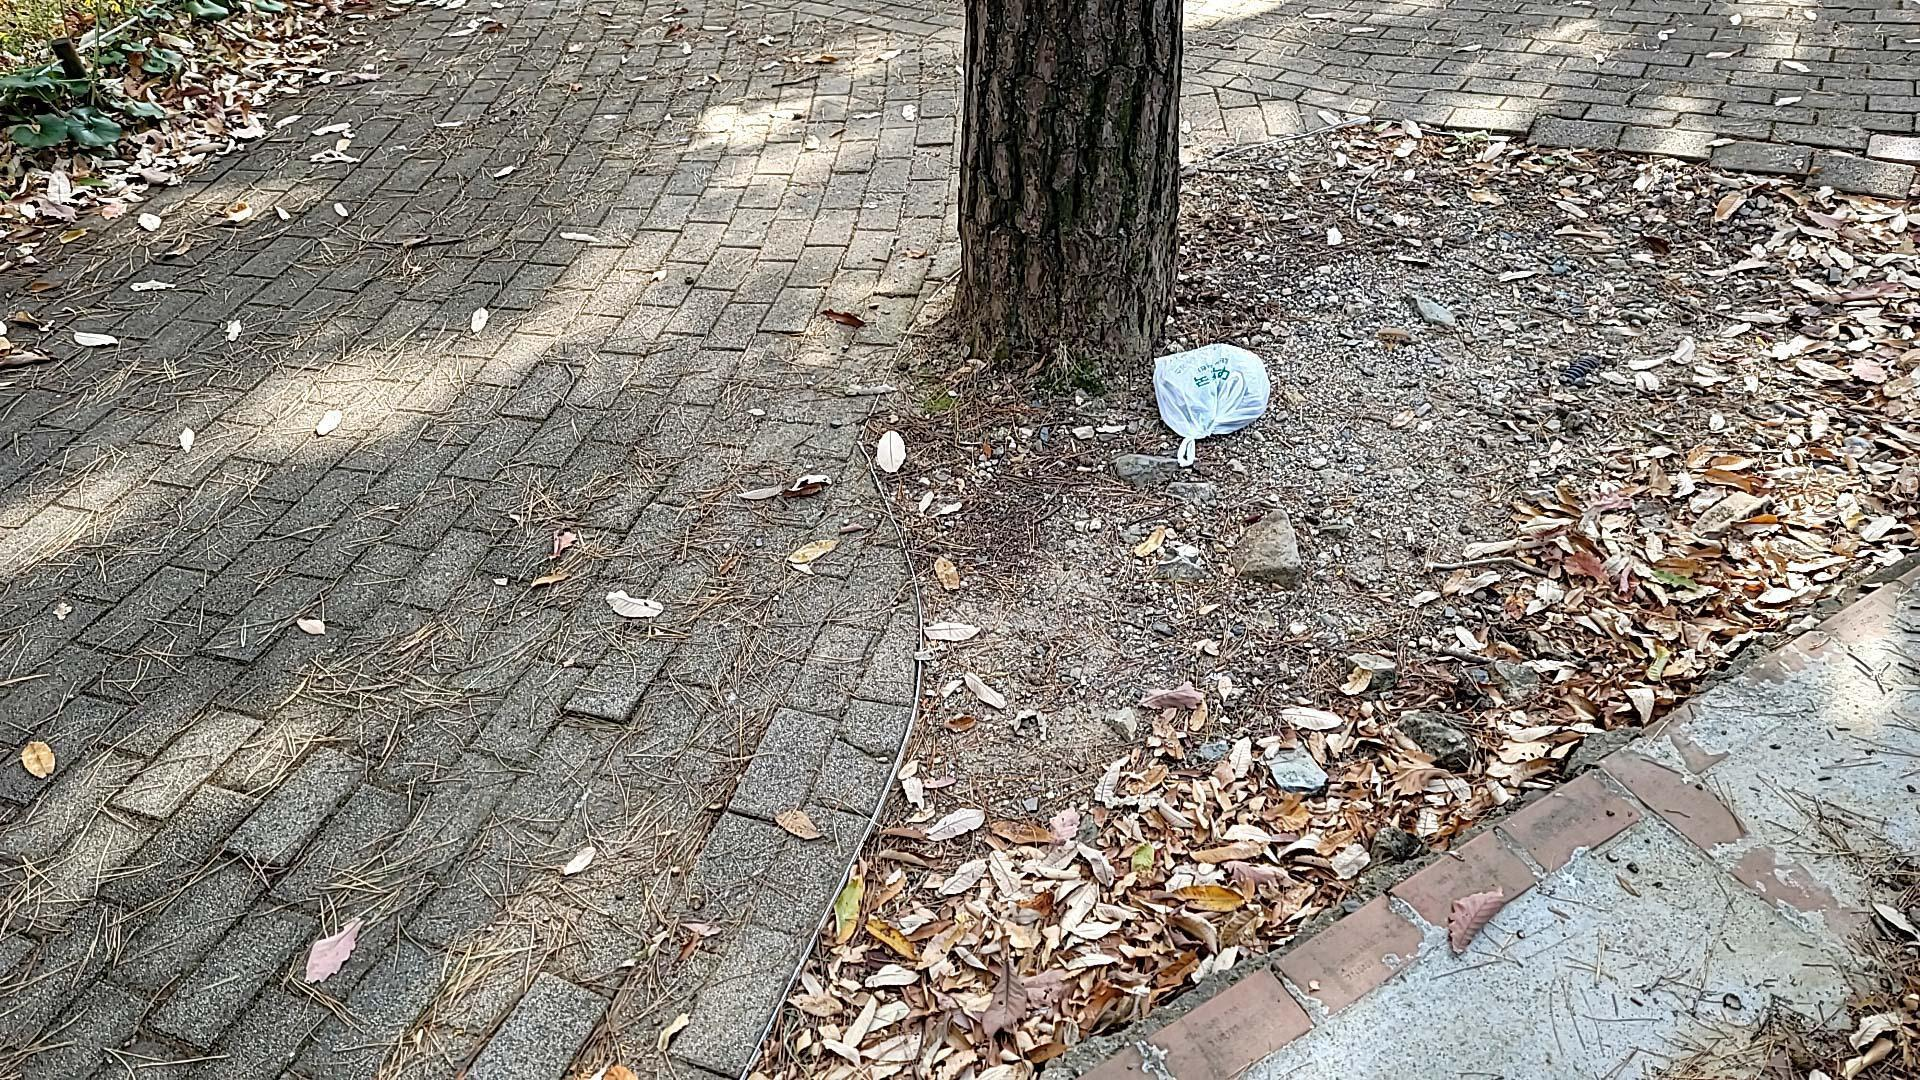white_bag: (1130, 338, 1287, 483)
